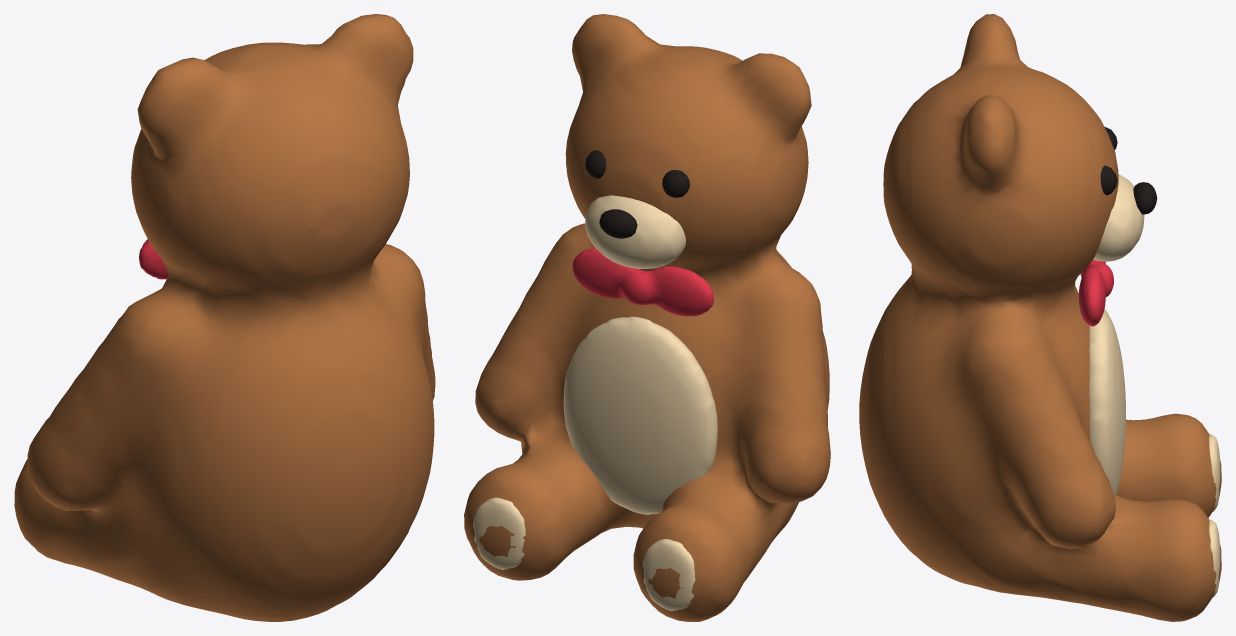
Rendered from TanksBear.obj.
3 renders of one model, left to right at view 1: azimuth 30°, elevation 25°; view 2: azimuth 150°, elevation 25°; view 3: azimuth 270°, elevation 25°, orthographic. The views are drawn at different scales.
Visible parts, largest first — view 1: Fur, Bow; view 2: Fur, Muzzle, Bow, Eyes; view 3: Fur, Muzzle, Bow, Eyes.
Part boxes in pixels (x1,y1,x2,y2): Fur: [14, 14, 435, 621]; Bow: [139, 239, 168, 279]; Fur: [464, 14, 830, 621]; Muzzle: [473, 195, 717, 611]; Bow: [572, 248, 713, 316]; Eyes: [585, 150, 689, 238]; Fur: [859, 14, 1221, 621]; Muzzle: [1089, 174, 1220, 597]; Bow: [1078, 259, 1113, 326]; Eyes: [1100, 126, 1157, 214].
Bounding box in the file's own units: 24.22 × 33.63 × 21.46.
